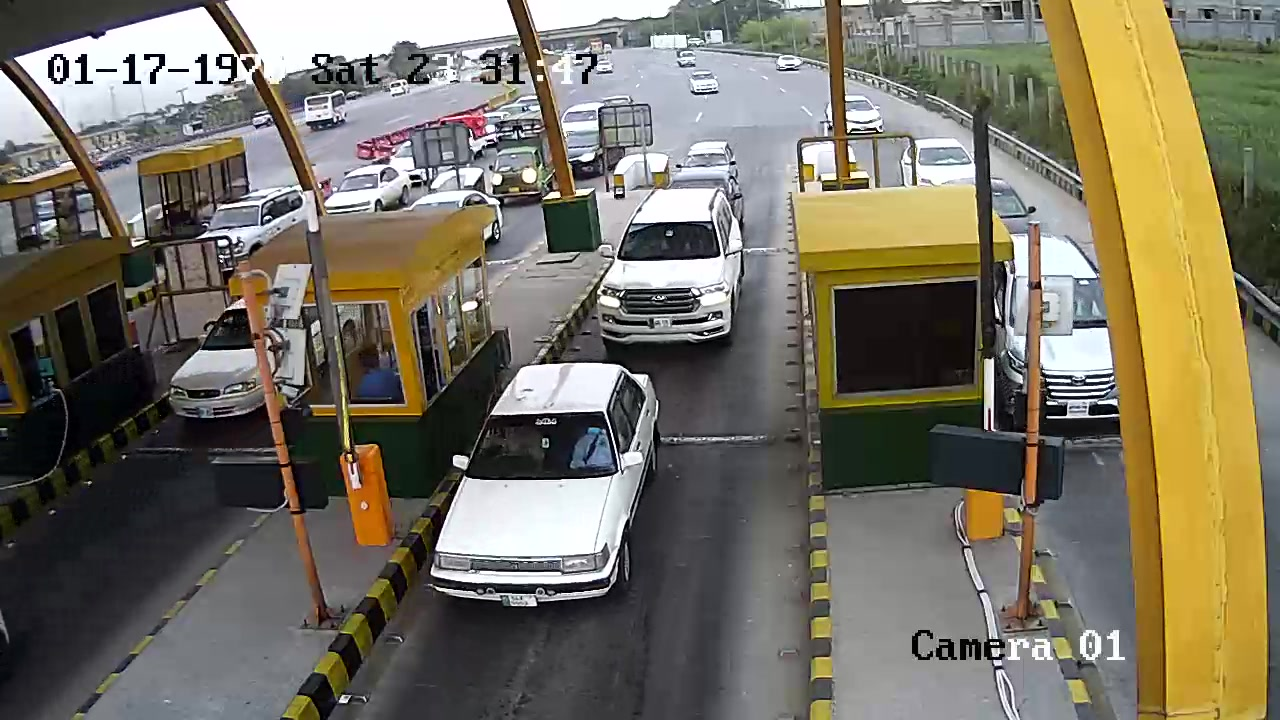F1: (426, 367, 671, 616), (587, 185, 750, 360)
